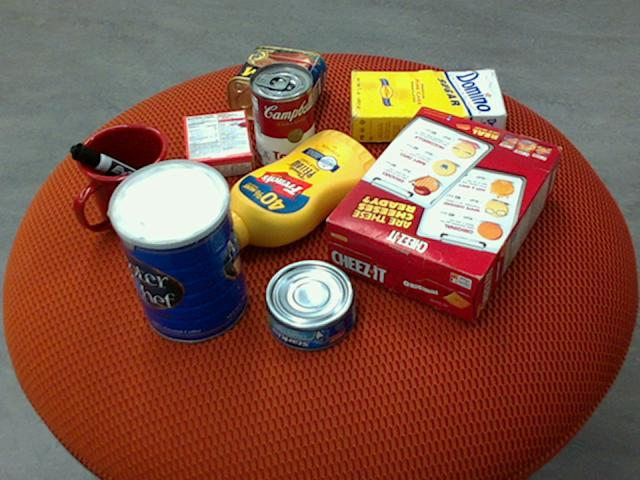cracker_box: (326, 105, 564, 321)
gelatin_box: (182, 108, 253, 181)
large_marker: (69, 143, 171, 201)
master_chef_can: (104, 160, 248, 344)
mug: (75, 123, 175, 233)
mustard_bottle: (206, 129, 381, 250)
potted_meat_can: (227, 46, 327, 126)
sugar_box: (349, 68, 508, 142)
tomato_soup_can: (249, 61, 315, 171)
tuna_fish_can: (265, 260, 357, 352)
